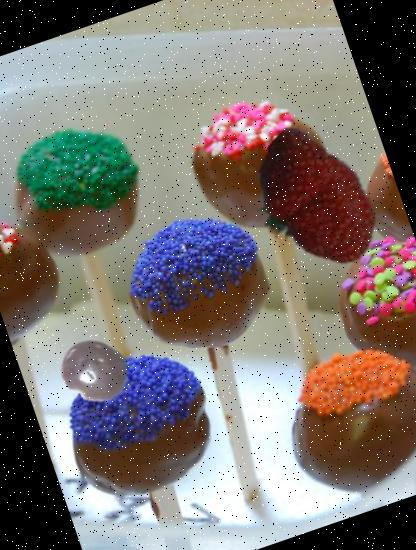Passion: (51, 328, 137, 413)
Strawberry: (220, 111, 408, 298)
